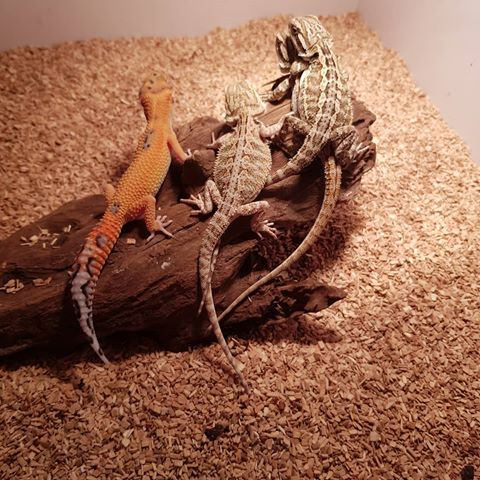bearded: (191, 85, 272, 383), (273, 16, 358, 204)
